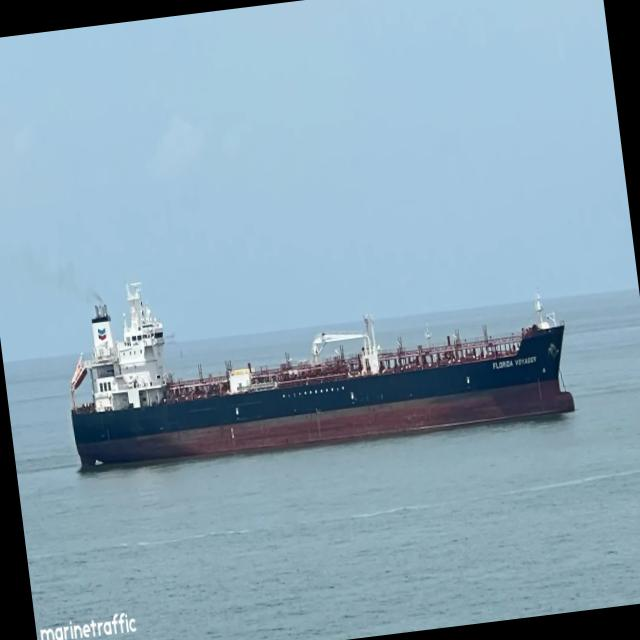Tanker: (69, 283, 574, 471)
